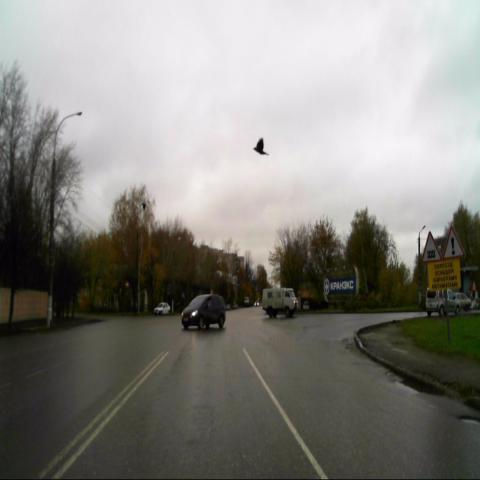1_1: (421, 231, 442, 264)
1_33: (443, 225, 465, 261)
